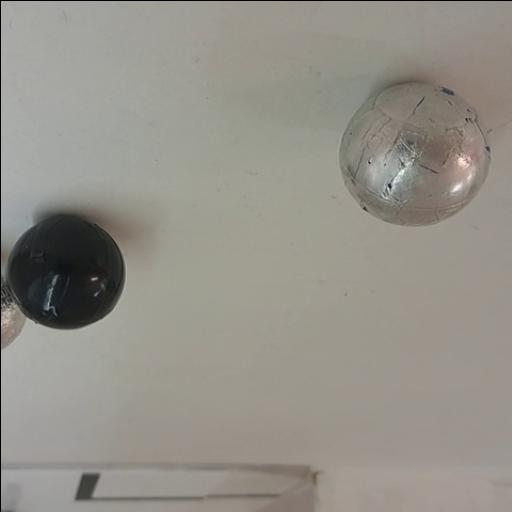alive: (336, 80, 493, 228), (0, 258, 31, 352)
dead: (5, 214, 128, 330)
